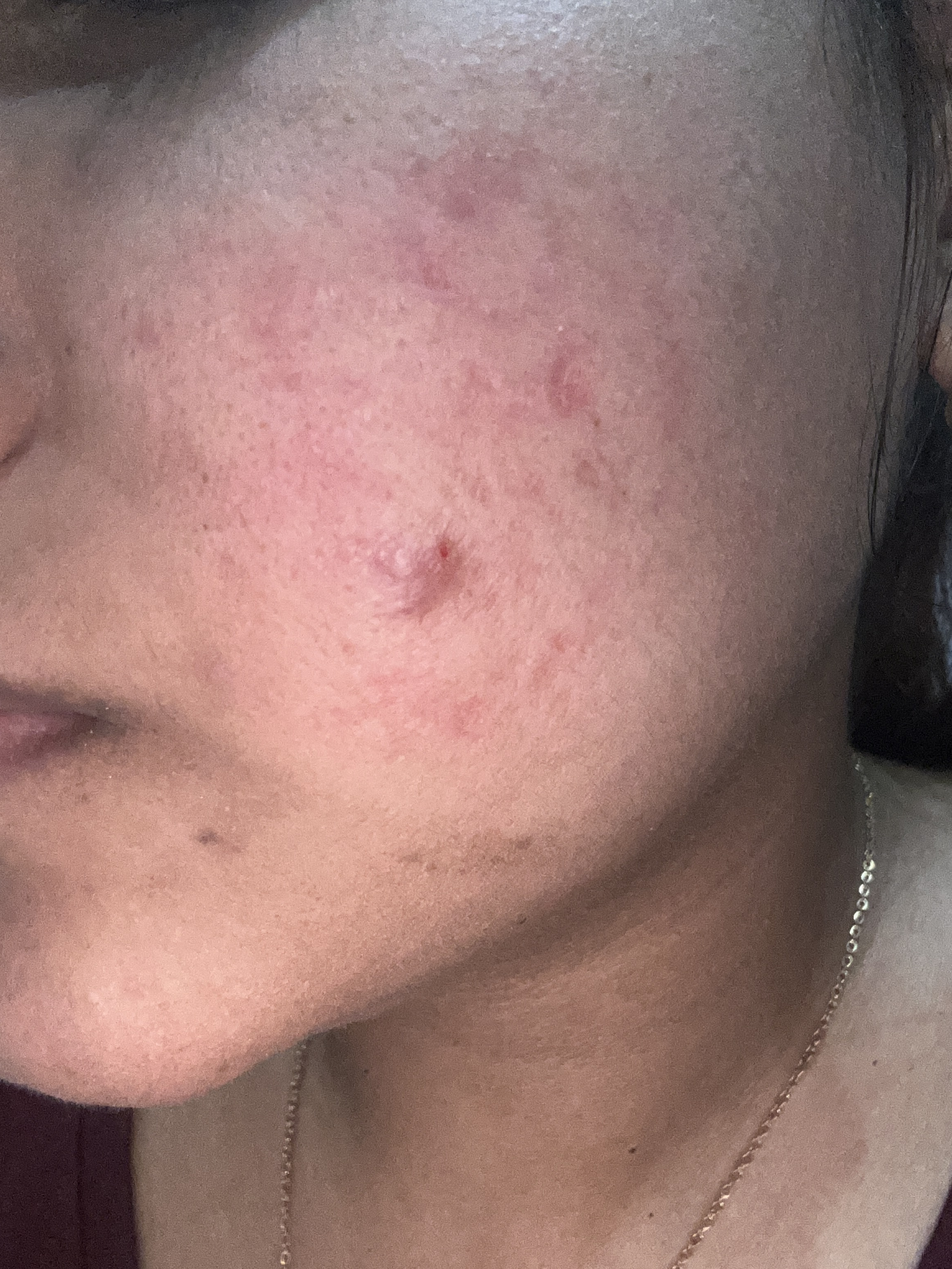papule: (376, 536, 460, 618)
